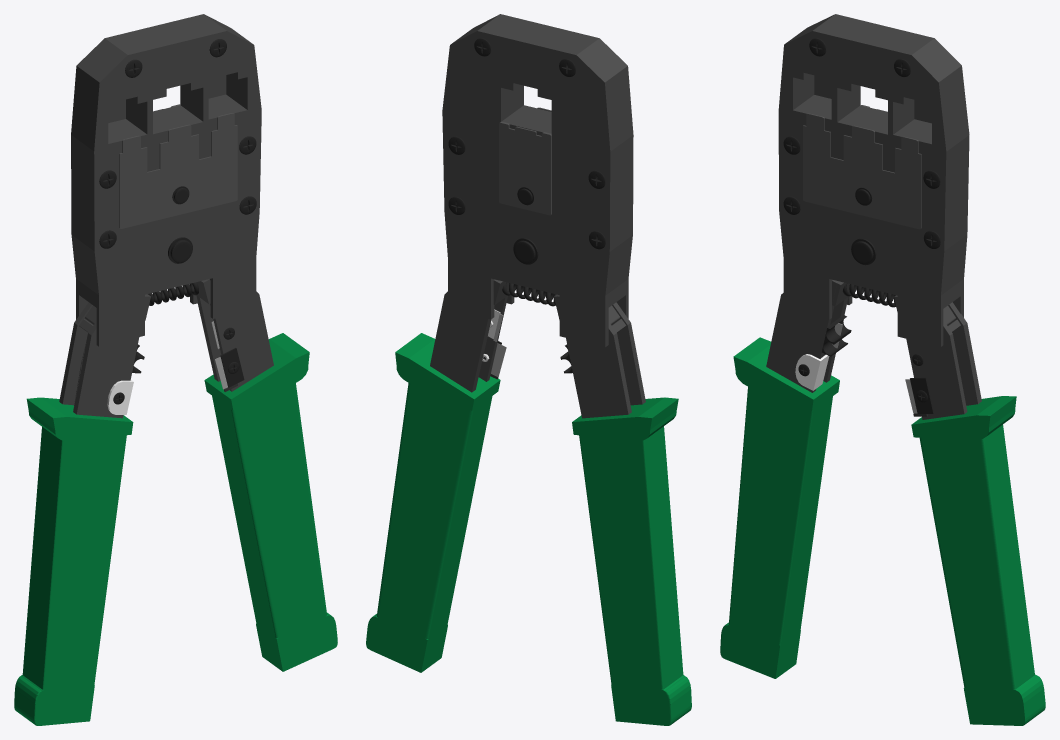
Rendered from Crimping Tool.fbx.
The picture shows the model from 3 angles, left to right: view 1: azimuth 30°, elevation 25°; view 2: azimuth 150°, elevation 25°; view 3: azimuth 330°, elevation 25°; orthographic projection.
Visible parts, largest first — view 1: Plane, Cube.001, Cube.000, Cube.005, Plane.001, Nut.007, Plane.012, Circle_0, Plane.014; view 2: Plane, Cube.001, Cube.000, Plane.001, Cube, Nut.003, Circle_0; view 3: Plane, Cube.000, Cube.001, Cube.005, Plane.001, Nut.007, Plane.012, Circle_0, Plane.007, Plane.014.
Boxes of the visible parts, left/top/right/bottom form: Plane: left=71, top=14, right=261, bottom=346; Cube.001: left=14, top=397, right=133, bottom=725; Cube.000: left=204, top=333, right=337, bottom=671; Cube.005: left=119, top=113, right=237, bottom=228; Plane.001: left=59, top=279, right=273, bottom=418; Nut.007: left=99, top=39, right=256, bottom=248; Plane.012: left=107, top=380, right=133, bottom=414; Circle_0: left=148, top=282, right=198, bottom=305; Plane.014: left=220, top=348, right=244, bottom=387; Plane: left=442, top=14, right=633, bottom=347; Cube.001: left=572, top=397, right=691, bottom=725; Cube.000: left=366, top=333, right=500, bottom=672; Plane.001: left=430, top=279, right=645, bottom=418; Cube: left=499, top=121, right=551, bottom=215; Nut.003: left=448, top=38, right=605, bottom=249; Circle_0: left=502, top=282, right=556, bottom=306; Plane: left=778, top=14, right=969, bottom=346; Cube.000: left=911, top=396, right=1045, bottom=725; Cube.001: left=720, top=337, right=839, bottom=678; Cube.005: left=803, top=113, right=921, bottom=229; Plane.001: left=766, top=280, right=981, bottom=419; Nut.007: left=783, top=38, right=940, bottom=248; Plane.012: left=795, top=354, right=829, bottom=390; Circle_0: left=842, top=283, right=895, bottom=307; Plane.007: left=822, top=315, right=851, bottom=356; Plane.014: left=910, top=377, right=933, bottom=413.
Bounding box in the file's own units: 378 × 780 × 61.12.
